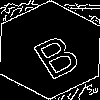B: (25, 25, 84, 81)
